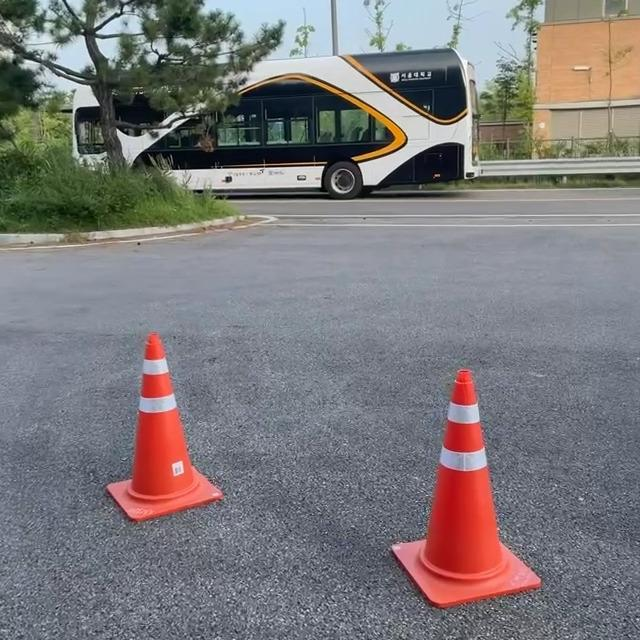fallen_object: (367, 347, 558, 640), (95, 325, 236, 523)
